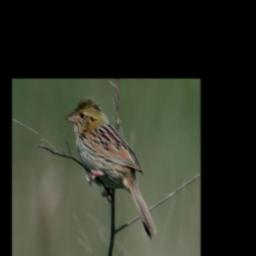Sparrow: (63, 95, 160, 242)
